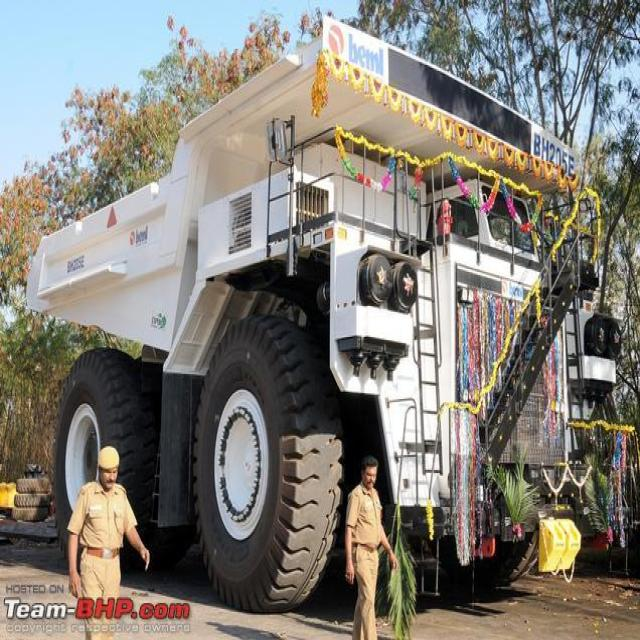truck: (26, 17, 620, 611)
